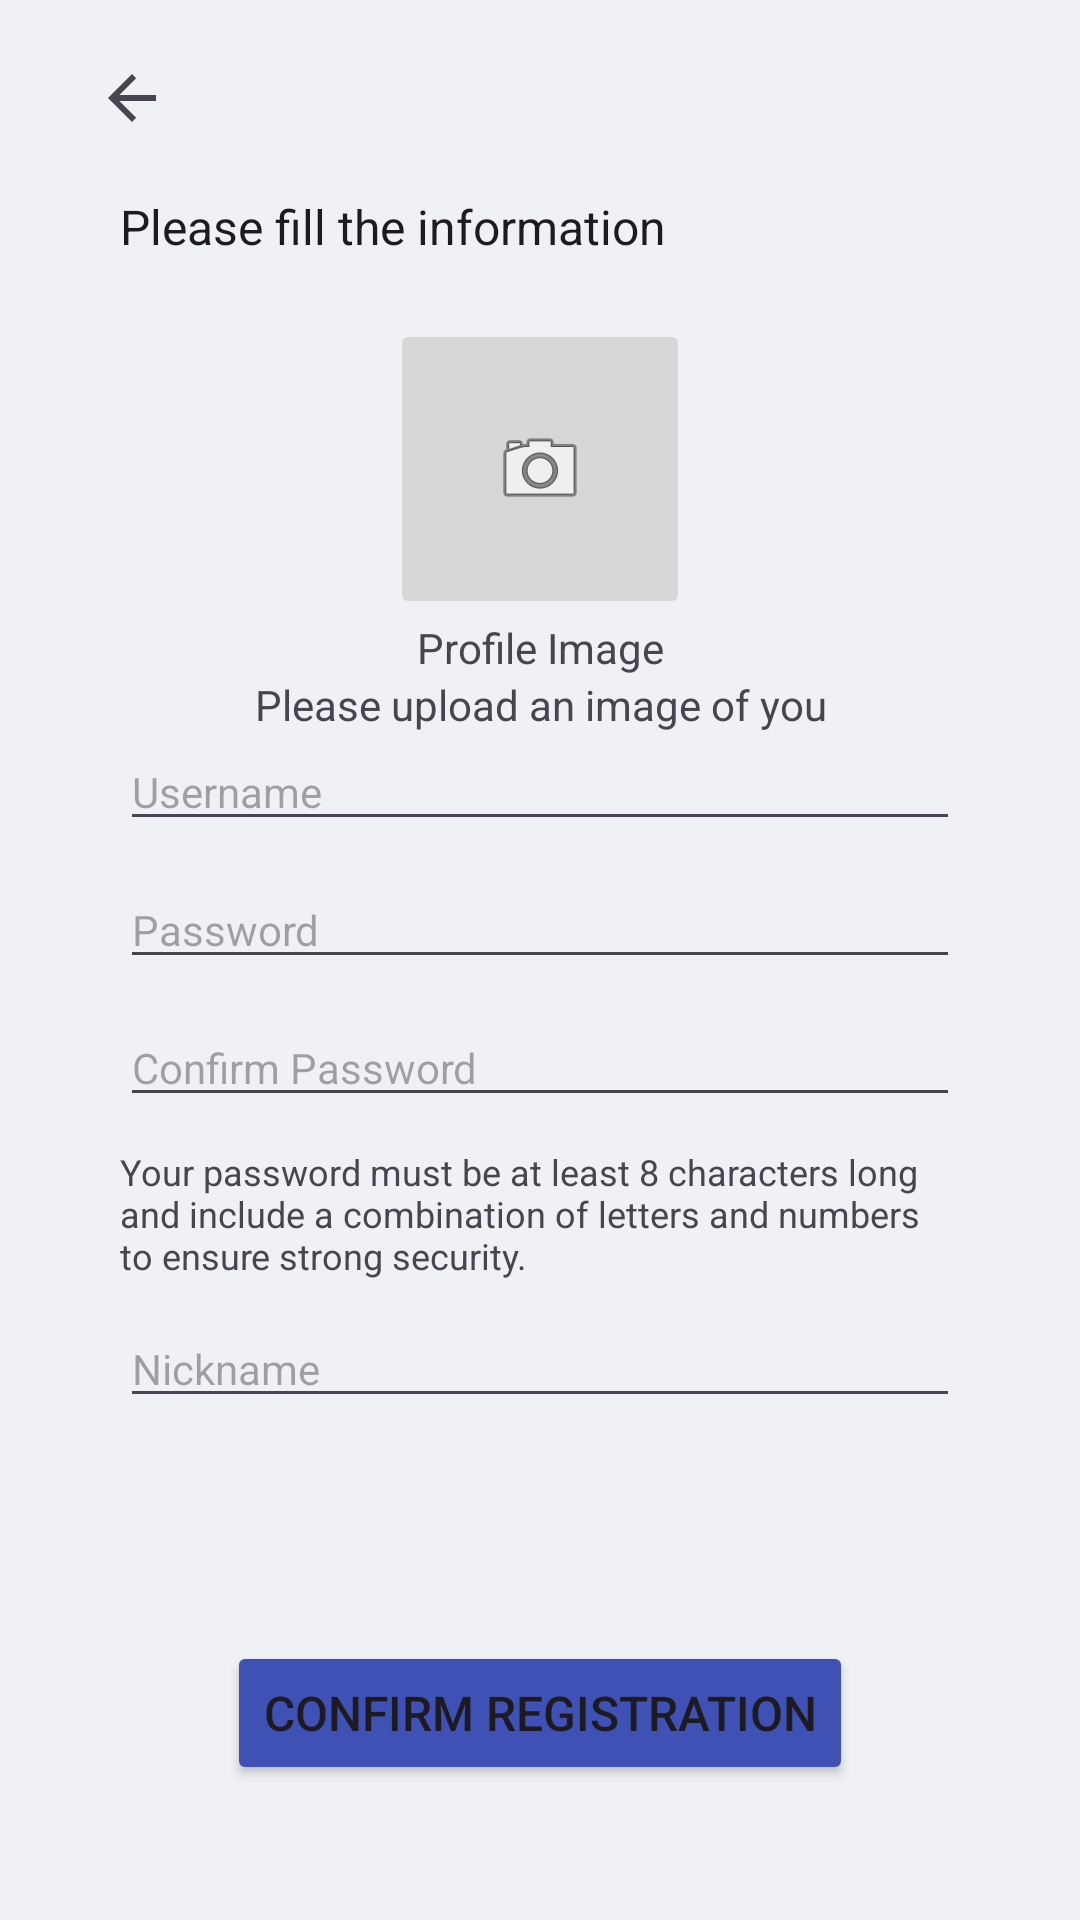

Named icons in this screenshot (1080px×1920px) and their bounding boxes, (x1, y1, x2, y2):
camera: (402, 337, 678, 601)
